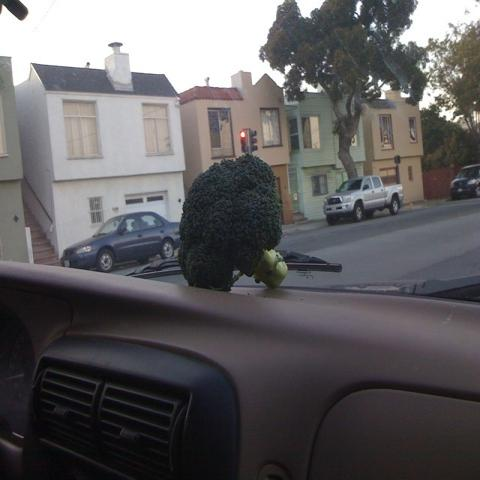car: (57, 210, 185, 274), (450, 163, 479, 199)
truck: (322, 175, 404, 225)
